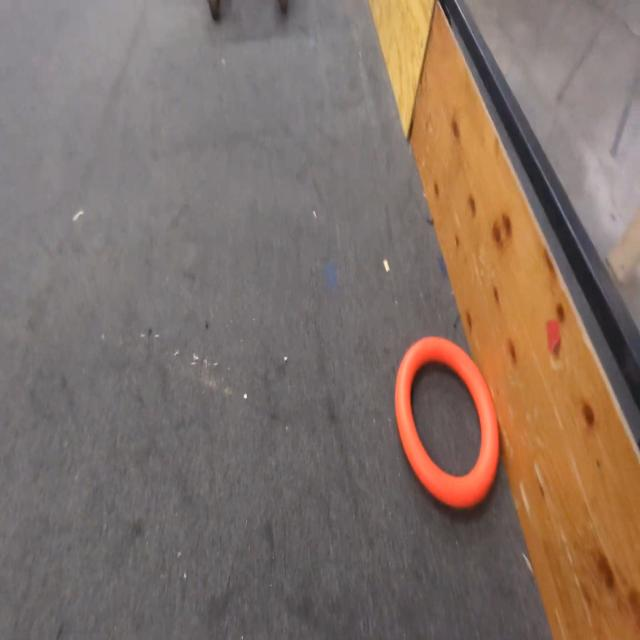note: (394, 336, 501, 507)
